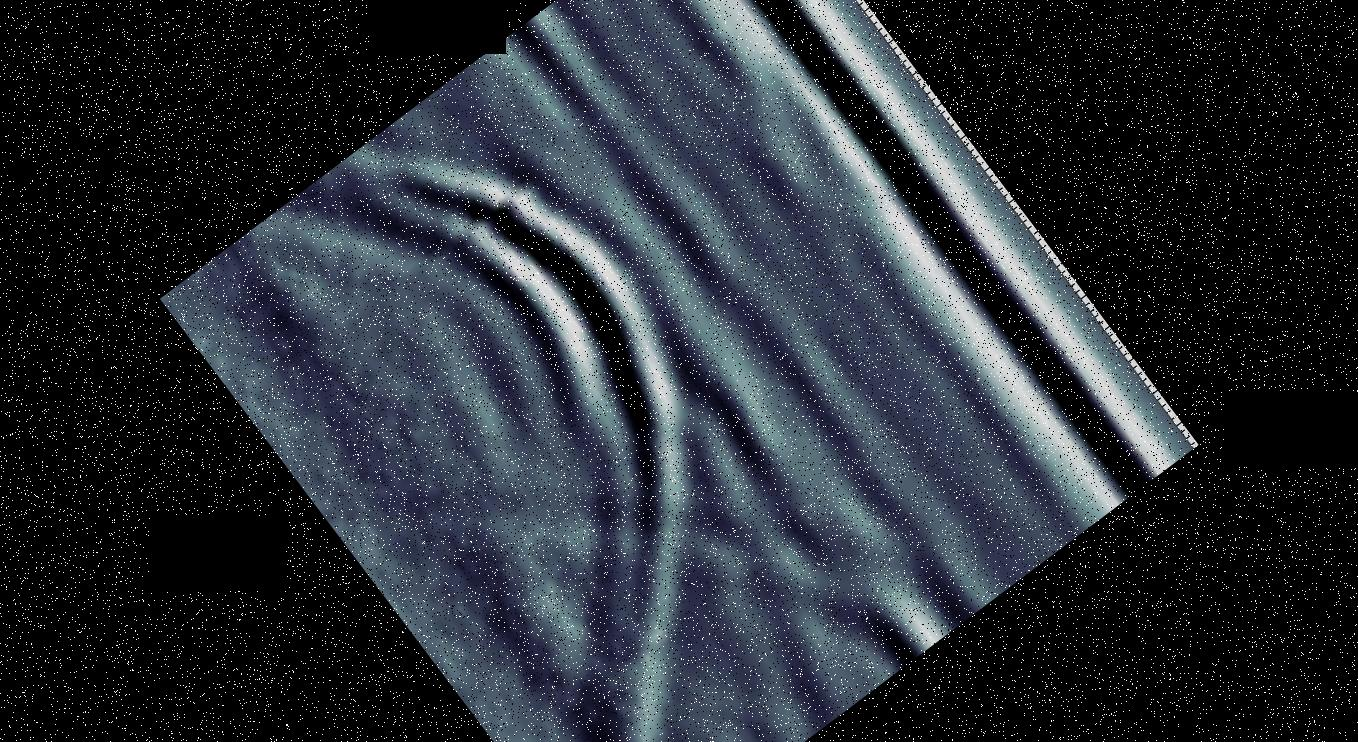Hyperbola: (159, 16, 979, 742), (303, 168, 1030, 742)
